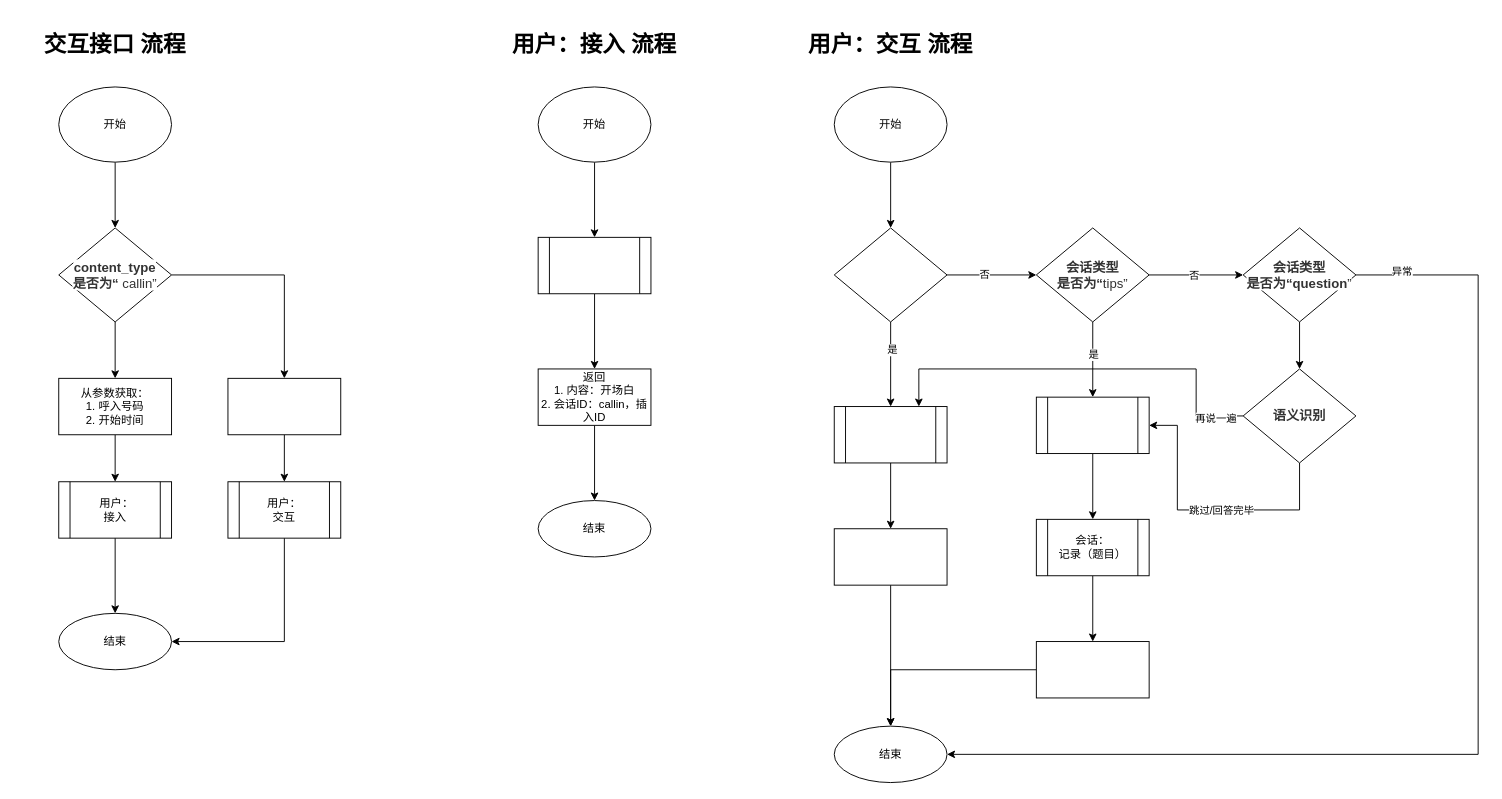
Some shapes in this 1502 by 799 pixel diagram are drawn without their labels. The centre of each missing label's shape, as x and y in pixels:
"从参数获取： 1. 上次会话ID" goes at point 284,406.
"会话类型 是否为“ callin”" goes at point 890,274.
"会话： 记录（开场白）" goes at point 594,265.
"会话： 记录（提示）" goes at point 890,434.
"返回 1. 内容：提示 2. 会话ID：tips，插入ID" goes at point 890,556.
"返回 1. 内容：题目 2. 会话ID：question，插入ID" goes at point 1092,669.
"题库： 获取新题目" goes at point 1092,425.
